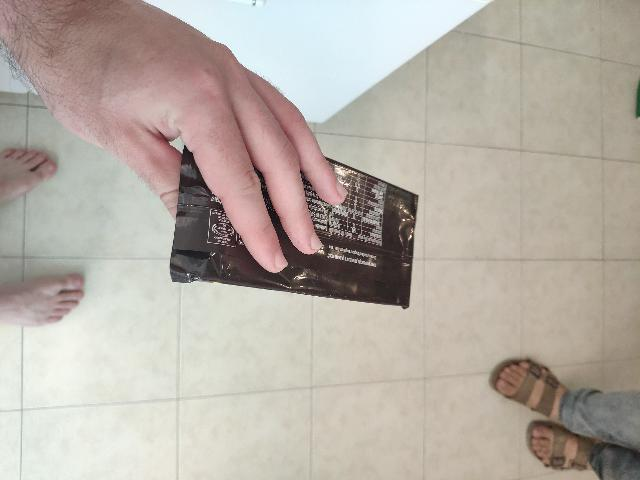chocolate: (270, 212, 474, 480)
